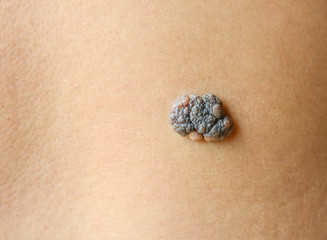melanoma: (160, 72, 248, 158)
